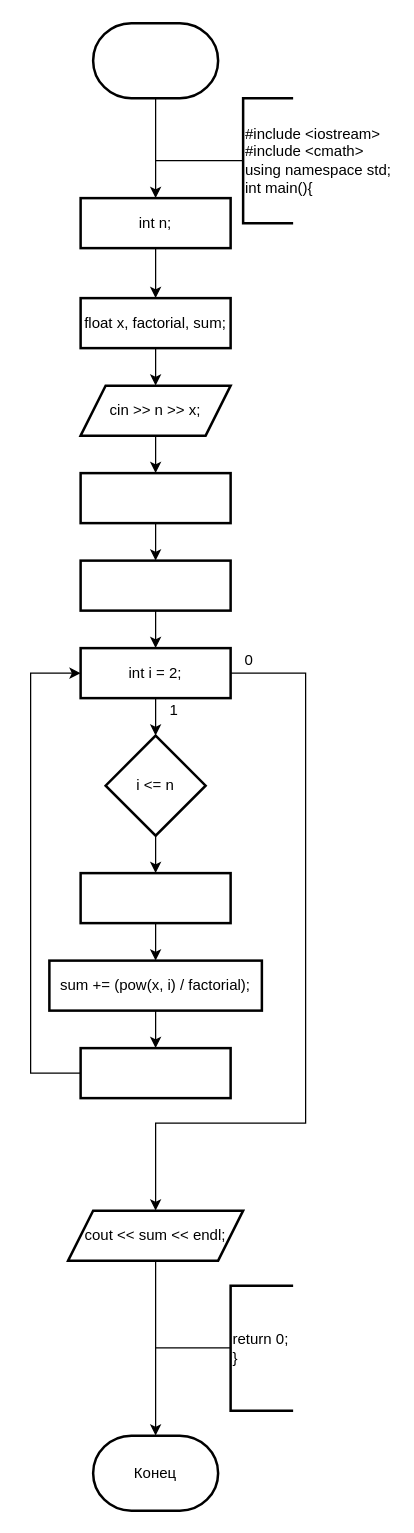
This 414x1533 diagram has some shape labels left out. Each missing label, with the centre of its shape:
"factorial *= i;" belongs at pixel 155 897.
"factorial = 1;" belongs at pixel 155 585.
"i++" belongs at pixel 155 1072.
"sum = 1 + x;" belongs at pixel 155 497.
"Начало" belongs at pixel 155 60.
